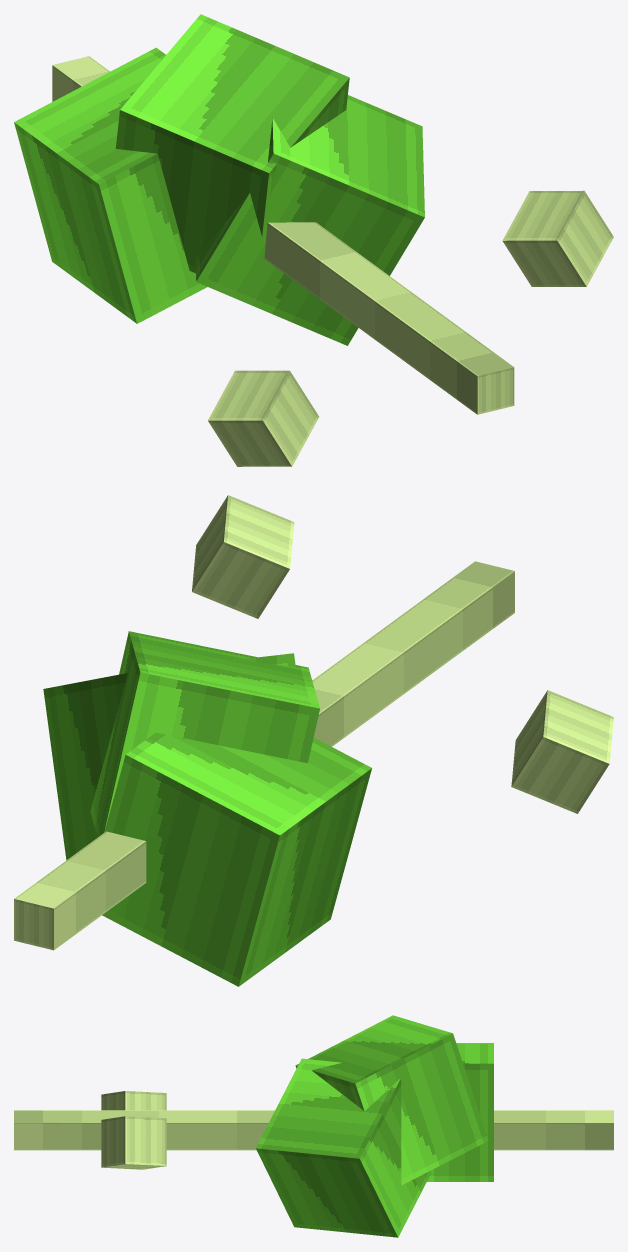
File: projectile_poison_poison.gltf
3 views of the same model, one above another, from view 1: azimuth 30°, elevation 25°; view 2: azimuth 150°, elevation 25°; view 3: azimuth 270°, elevation 25° (orthographic). The views are drawn at different scales.
Visible parts, largest first — view 1: core_mesh; view 2: core_mesh; view 3: core_mesh.
Part boxes in pixels (bbox=[...]): core_mesh: bbox=[14, 14, 613, 466]; core_mesh: bbox=[14, 495, 613, 986]; core_mesh: bbox=[14, 1015, 613, 1237].
Bounding box in the file's own units: 0.3342 × 0.2092 × 0.625.
Materials: 1 (1 with a texture image).
